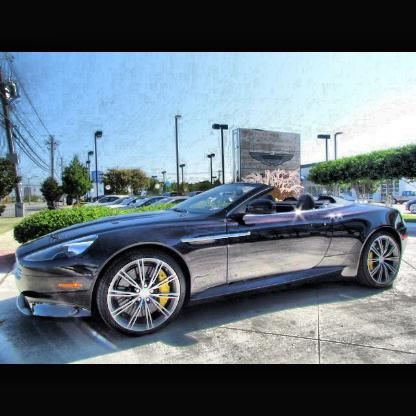Aston Martin Virage Convertible 2012: (15, 182, 410, 339)
